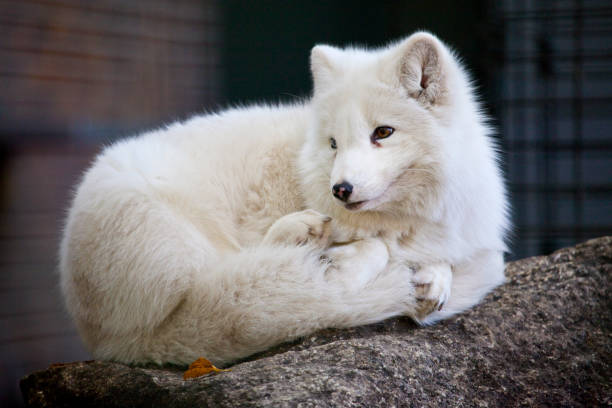arcticfox: (302, 69, 429, 231)
